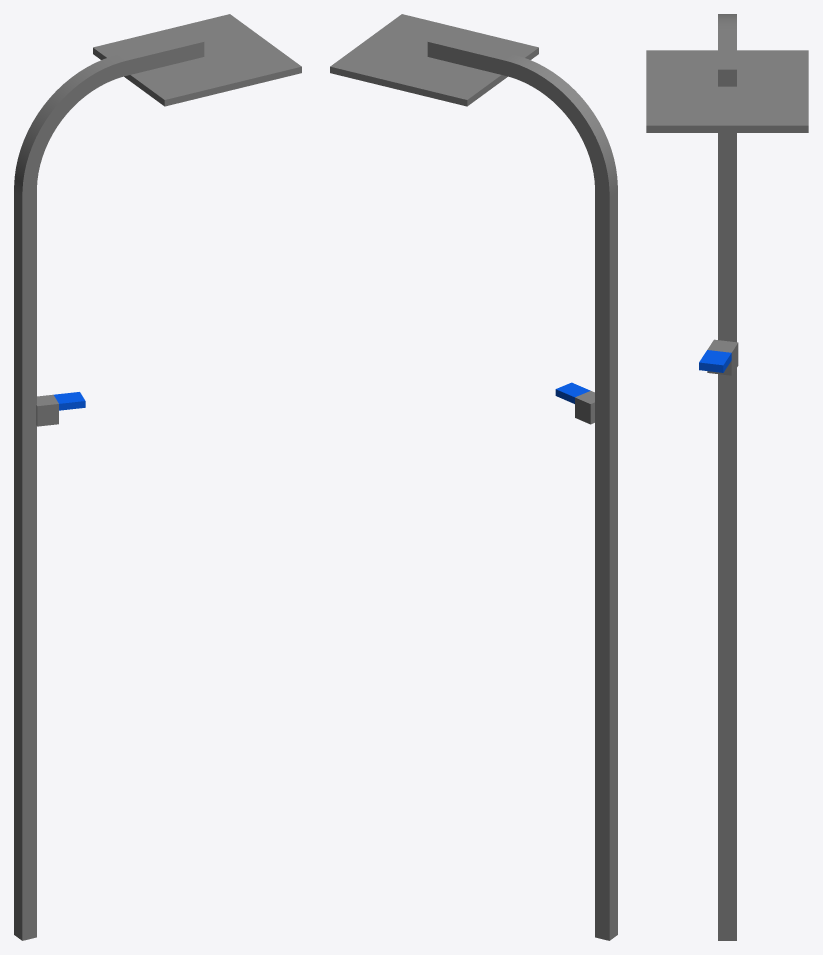
The model's file is shower.fbx.
3 renders of one model, left to right at view 1: azimuth 30°, elevation 25°; view 2: azimuth 150°, elevation 25°; view 3: azimuth 270°, elevation 25°, orthographic. The views are drawn at different scales.
Visible parts, largest first — view 1: shower; view 2: shower; view 3: shower.
Part boxes in pixels (box(x1,y1,x2,y2)): shower: box(14, 14, 301, 940); shower: box(330, 14, 617, 940); shower: box(646, 14, 808, 940).
Size of the model in its own units: 1715 by 5656 by 862.
